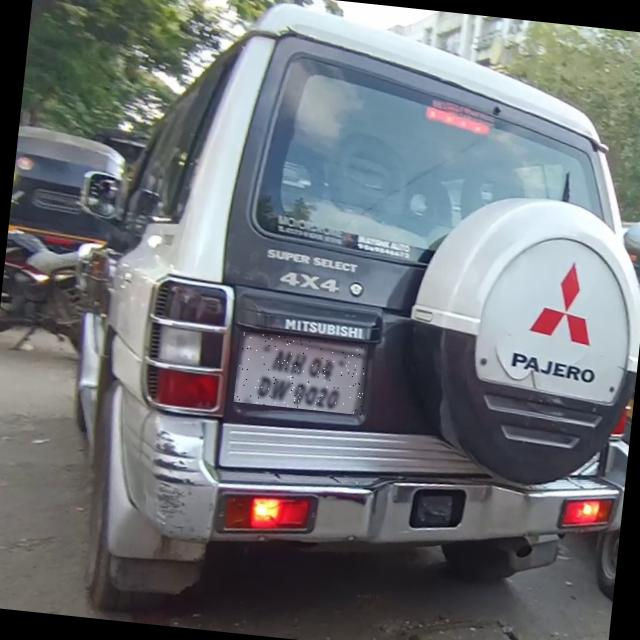Plate: (234, 332, 369, 416)
